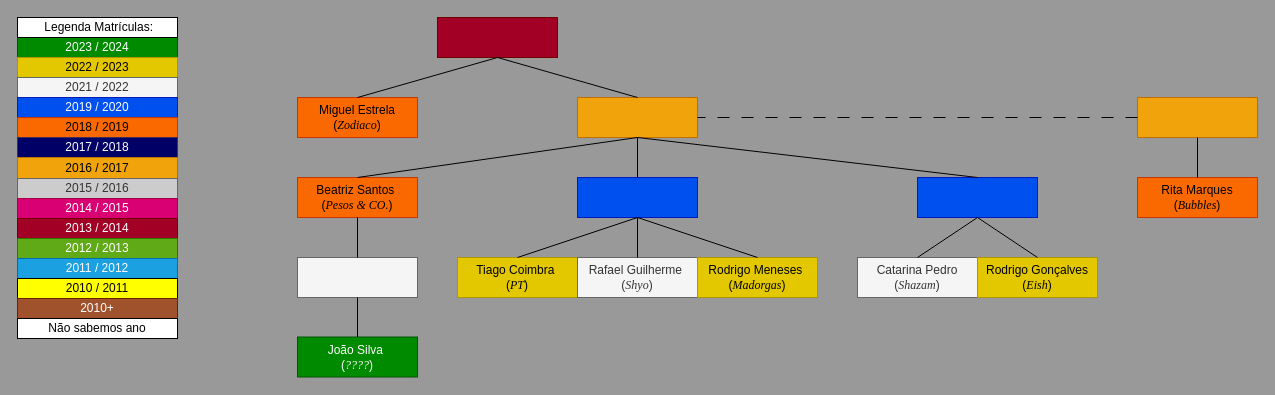
The diagram is 1275 pixels wide and 395 high, and some of its shapes have lost their labels. Each missing label, with the box of its shape:
Carolina Batista ( Casa Nova ): (436, 16, 558, 58)
Diogo Pedroso ( Calhau ): (916, 176, 1038, 218)
Francisco Bernardino ( Xico Não da Tina ): (296, 256, 418, 298)
Gonçalo Eugênio ( Captião G ): (576, 176, 698, 218)
Inês Durate ( Branca de Neve ): (1136, 96, 1258, 138)
Pavlo Kyyanchenko ( Molotov ): (576, 96, 698, 138)
